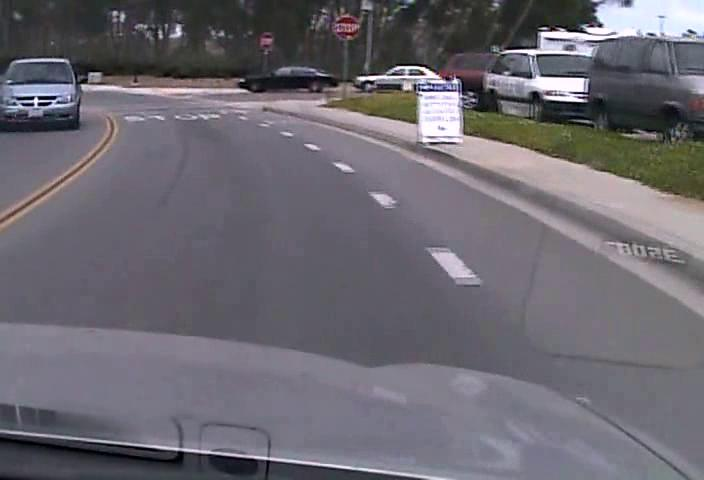stop: (332, 14, 361, 42)
